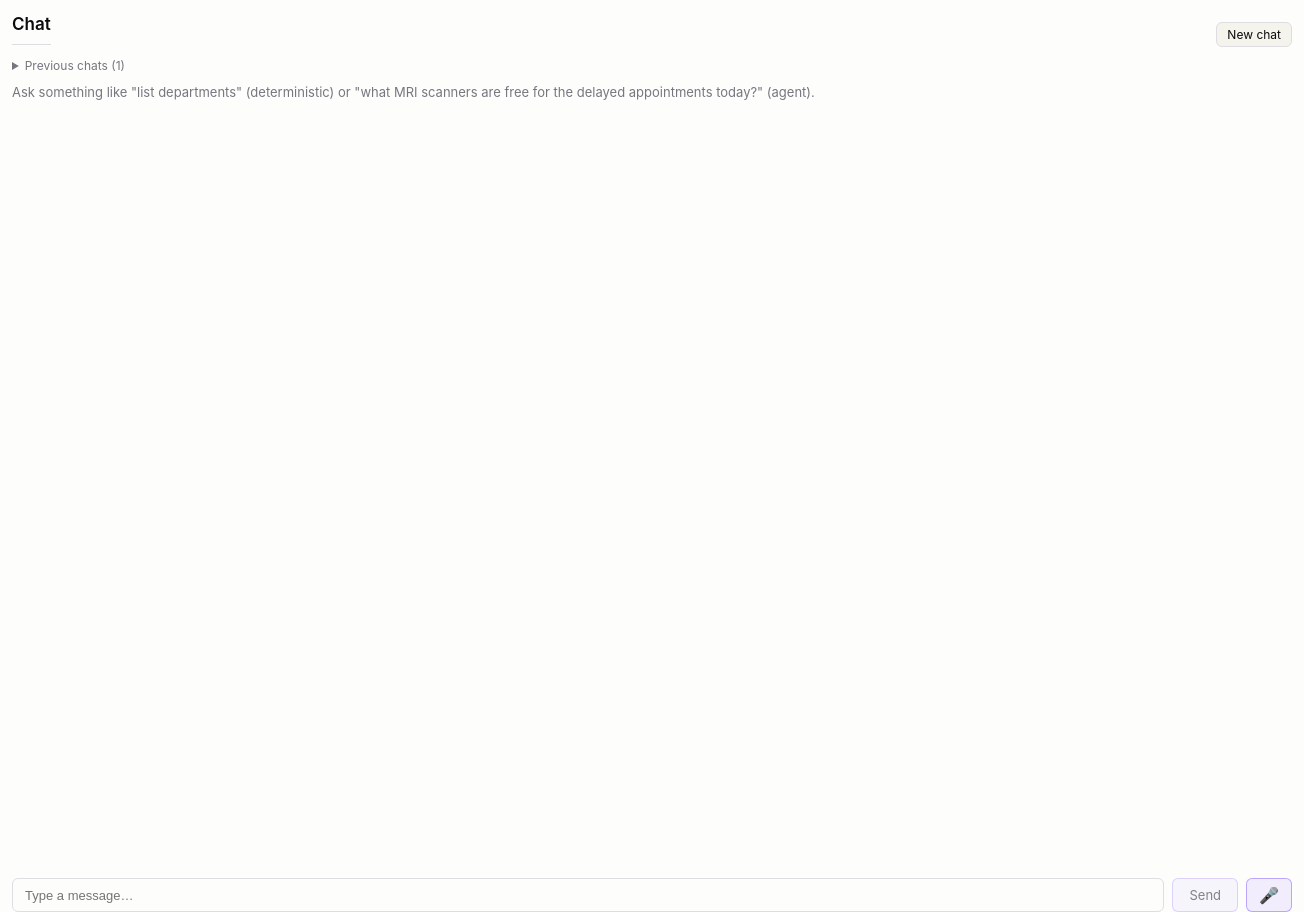
Test: ChatPanel session lifecycle (Task A) › loads a previous session's history via GET /messages when selected from Previous chats
The width and height of the screenshot is (1304, 912).
Click the heading "Previous chats (1)" at (75, 65), box [25, 58, 125, 72]
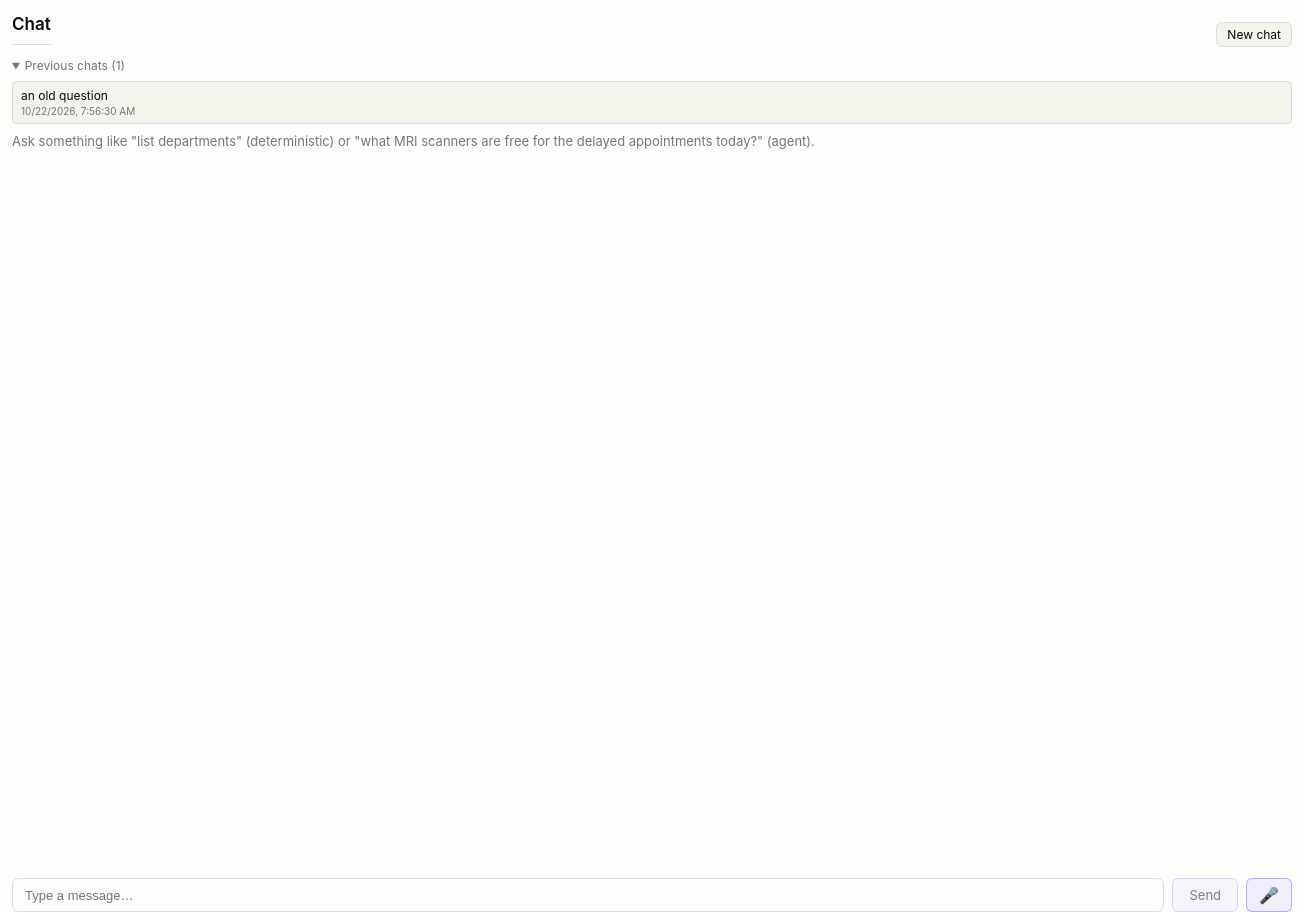
Click the text "an old question" at (64, 95), box [21, 88, 108, 102]
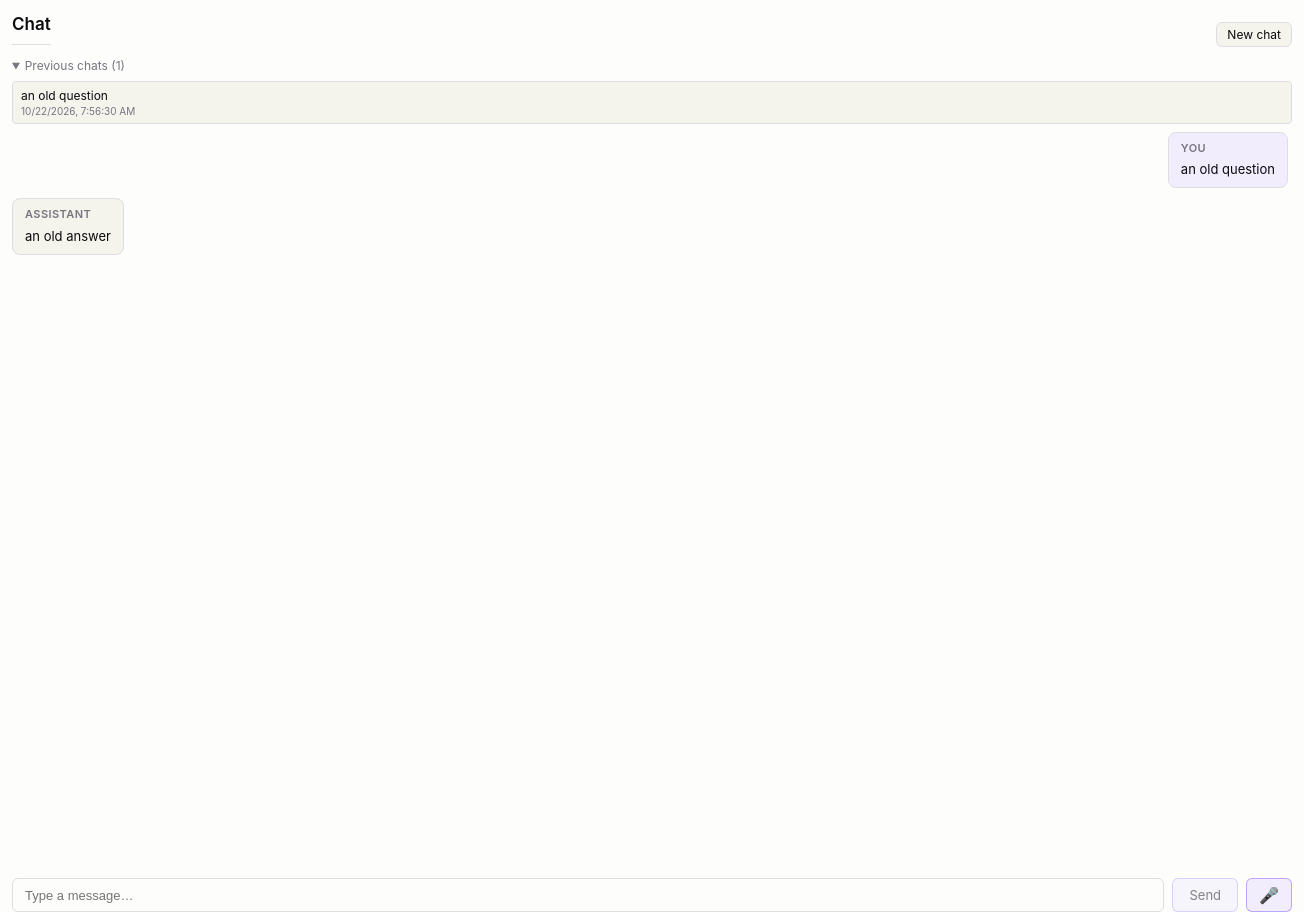
Expected: the text "an old answer" is shown, [25, 227, 111, 246]
